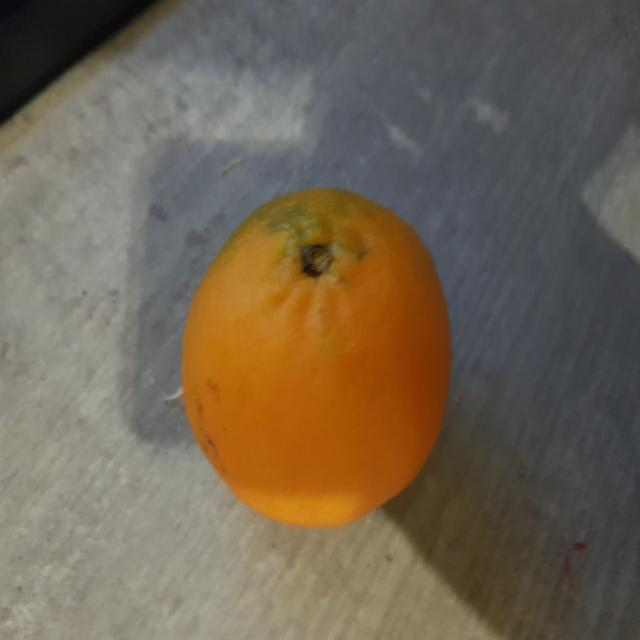Orange: (180, 189, 453, 533)
